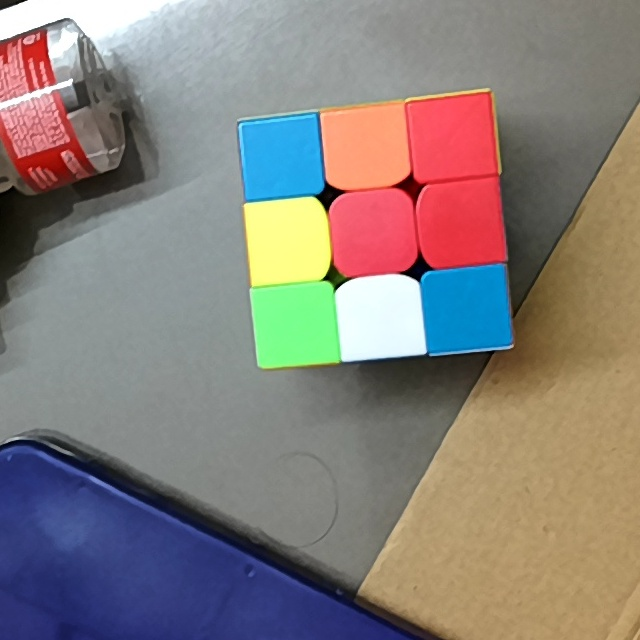tile: (417, 102, 491, 173), (430, 274, 504, 345), (243, 123, 317, 193), (259, 292, 333, 361), (428, 188, 497, 258), (331, 113, 400, 180), (340, 200, 409, 267), (347, 285, 416, 351), (254, 208, 317, 277)
